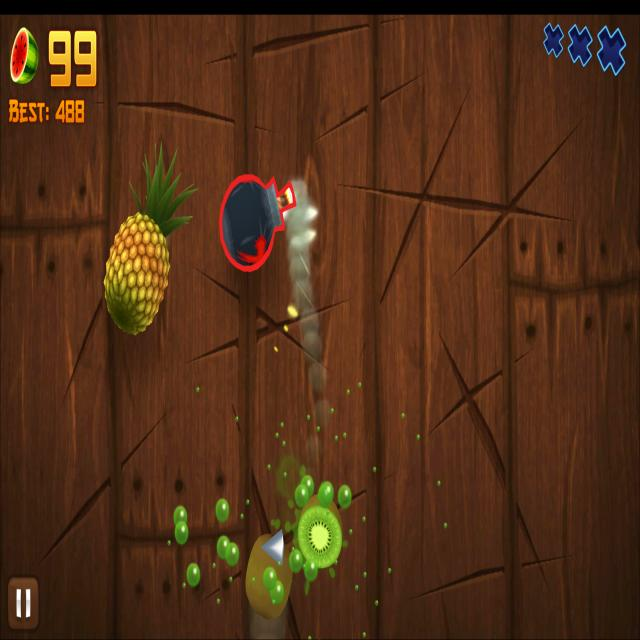bomb: (219, 175, 297, 273)
fruit: (103, 214, 171, 334), (245, 537, 292, 621)
